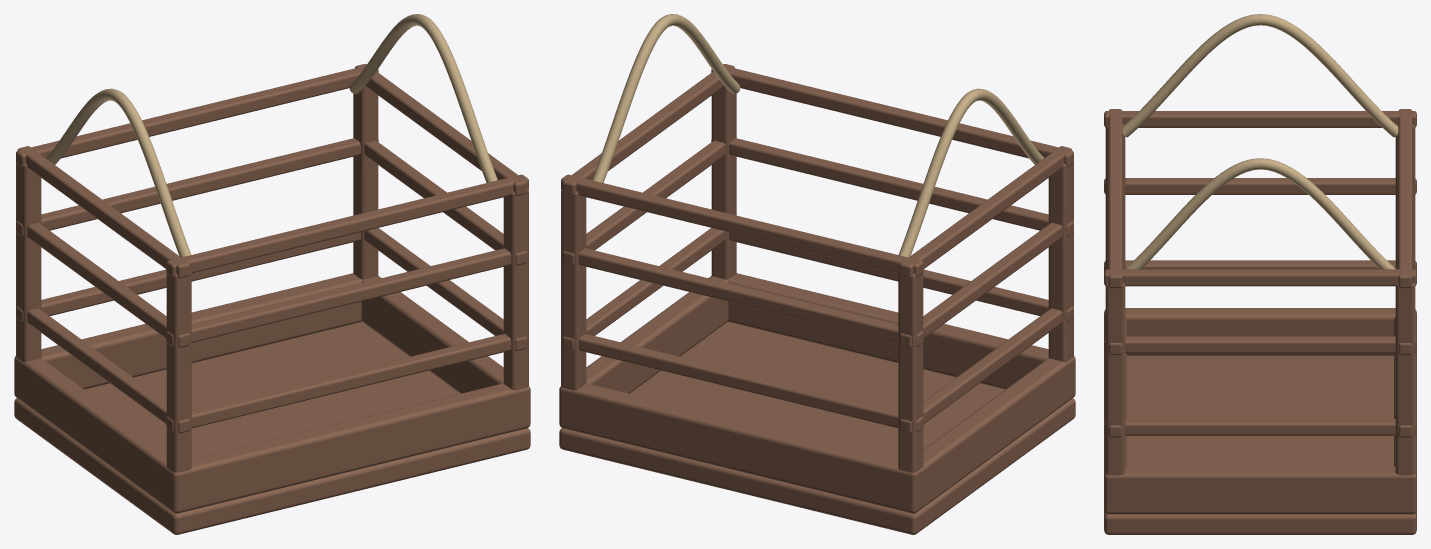
The model's file is griffin-airmail-roost-and-posthouse-winch-loading-bask-de683d8c__30541.glb.
3 views of the same model, side by side, from view 1: azimuth 30°, elevation 25°; view 2: azimuth 150°, elevation 25°; view 3: azimuth 270°, elevation 25° (orthographic). The views are drawn at different scales.
Visible parts, largest first — view 1: winch-loading-basket; view 2: winch-loading-basket; view 3: winch-loading-basket.
Boxes of the visible parts, x1=… form: winch-loading-basket: x1=14, y1=14, x2=530, y2=534; winch-loading-basket: x1=559, y1=14, x2=1075, y2=534; winch-loading-basket: x1=1104, y1=14, x2=1416, y2=534.
Size of the model in its own units: 0.7 by 0.71 by 0.55.
